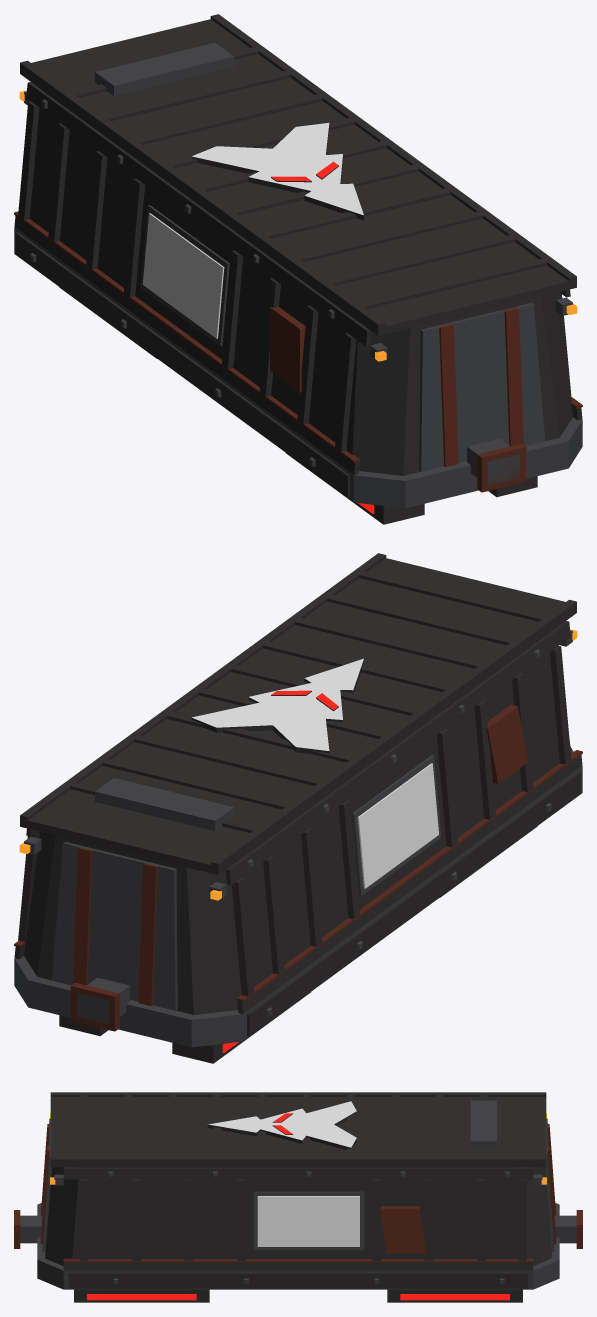
Rendered from maglev_train_cargo.glb.
3 views of the same model, one above another, from view 1: azimuth 30°, elevation 25°; view 2: azimuth 150°, elevation 25°; view 3: azimuth 270°, elevation 25° (orthographic). The views are drawn at different scales.
Parts seen in each view (by area): view 1: cargo_body, sled_cargo_front; view 2: cargo_body, sled_cargo_rear; view 3: cargo_body, sled_cargo_front, sled_cargo_rear.
Boxes of the visible parts, left/top/right/bottom form: cargo_body: left=14, top=14, right=582, bottom=508; sled_cargo_front: left=286, top=453, right=537, bottom=524; cargo_body: left=14, top=553, right=582, bottom=1047; sled_cargo_rear: left=59, top=992, right=310, bottom=1063; cargo_body: left=14, top=1092, right=582, bottom=1289; sled_cargo_front: left=74, top=1289, right=209, bottom=1302; sled_cargo_rear: left=387, top=1289, right=522, bottom=1302.
Bounding box in the file's own units: 3.66 × 3.29 × 10.9.
